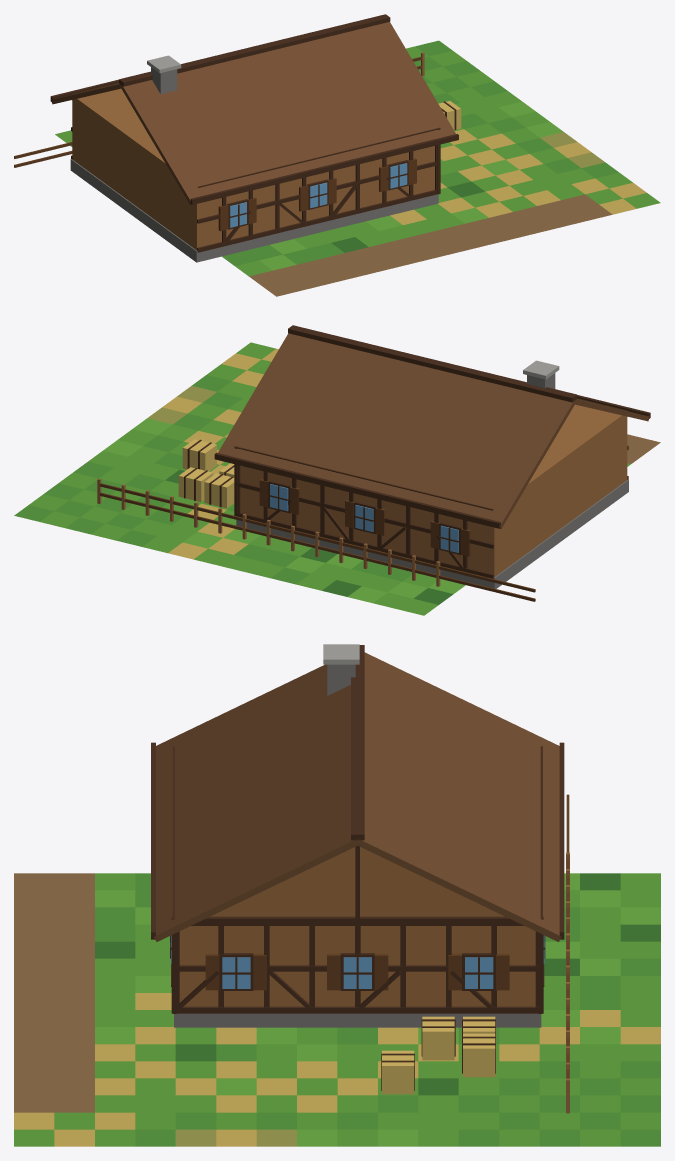
File: chunk_7_12.glb
3 renders of one model, top to bottom at view 1: azimuth 30°, elevation 25°; view 2: azimuth 150°, elevation 25°; view 3: azimuth 270°, elevation 25°, orthographic. The views are drawn at different scales.
Visible parts, largest first — view 1: chunk_7_12; view 2: chunk_7_12; view 3: chunk_7_12.
Boxes of the visible parts, x1,y1,x2,y2 form: chunk_7_12: (14, 14, 660, 296); chunk_7_12: (14, 325, 660, 615); chunk_7_12: (14, 644, 660, 1146).
Size of the model in its own units: 19 by 6.04 by 16.
